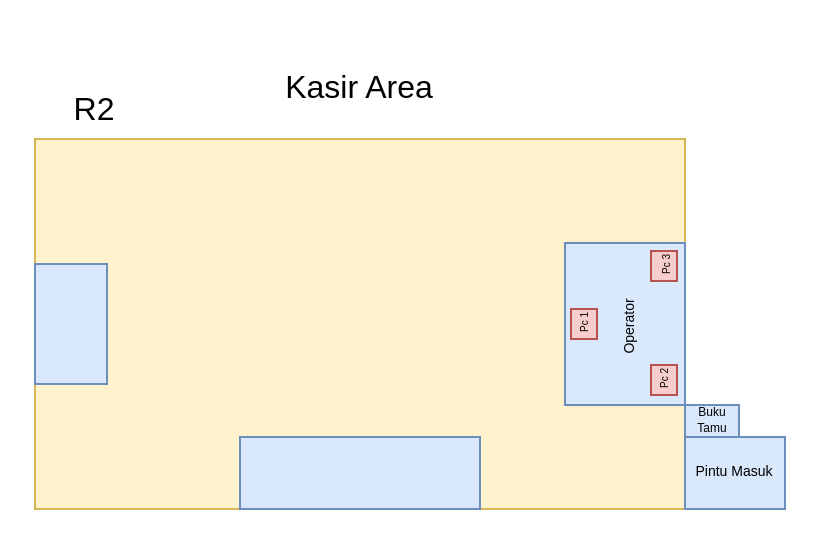
This 830x544 diagram has some shape labels left out. The centre of each missing label's shape, as x and y in pixels:
"Mading" belongs at pixel 70 323.
"Papan Tulis" belongs at pixel 359 472.
